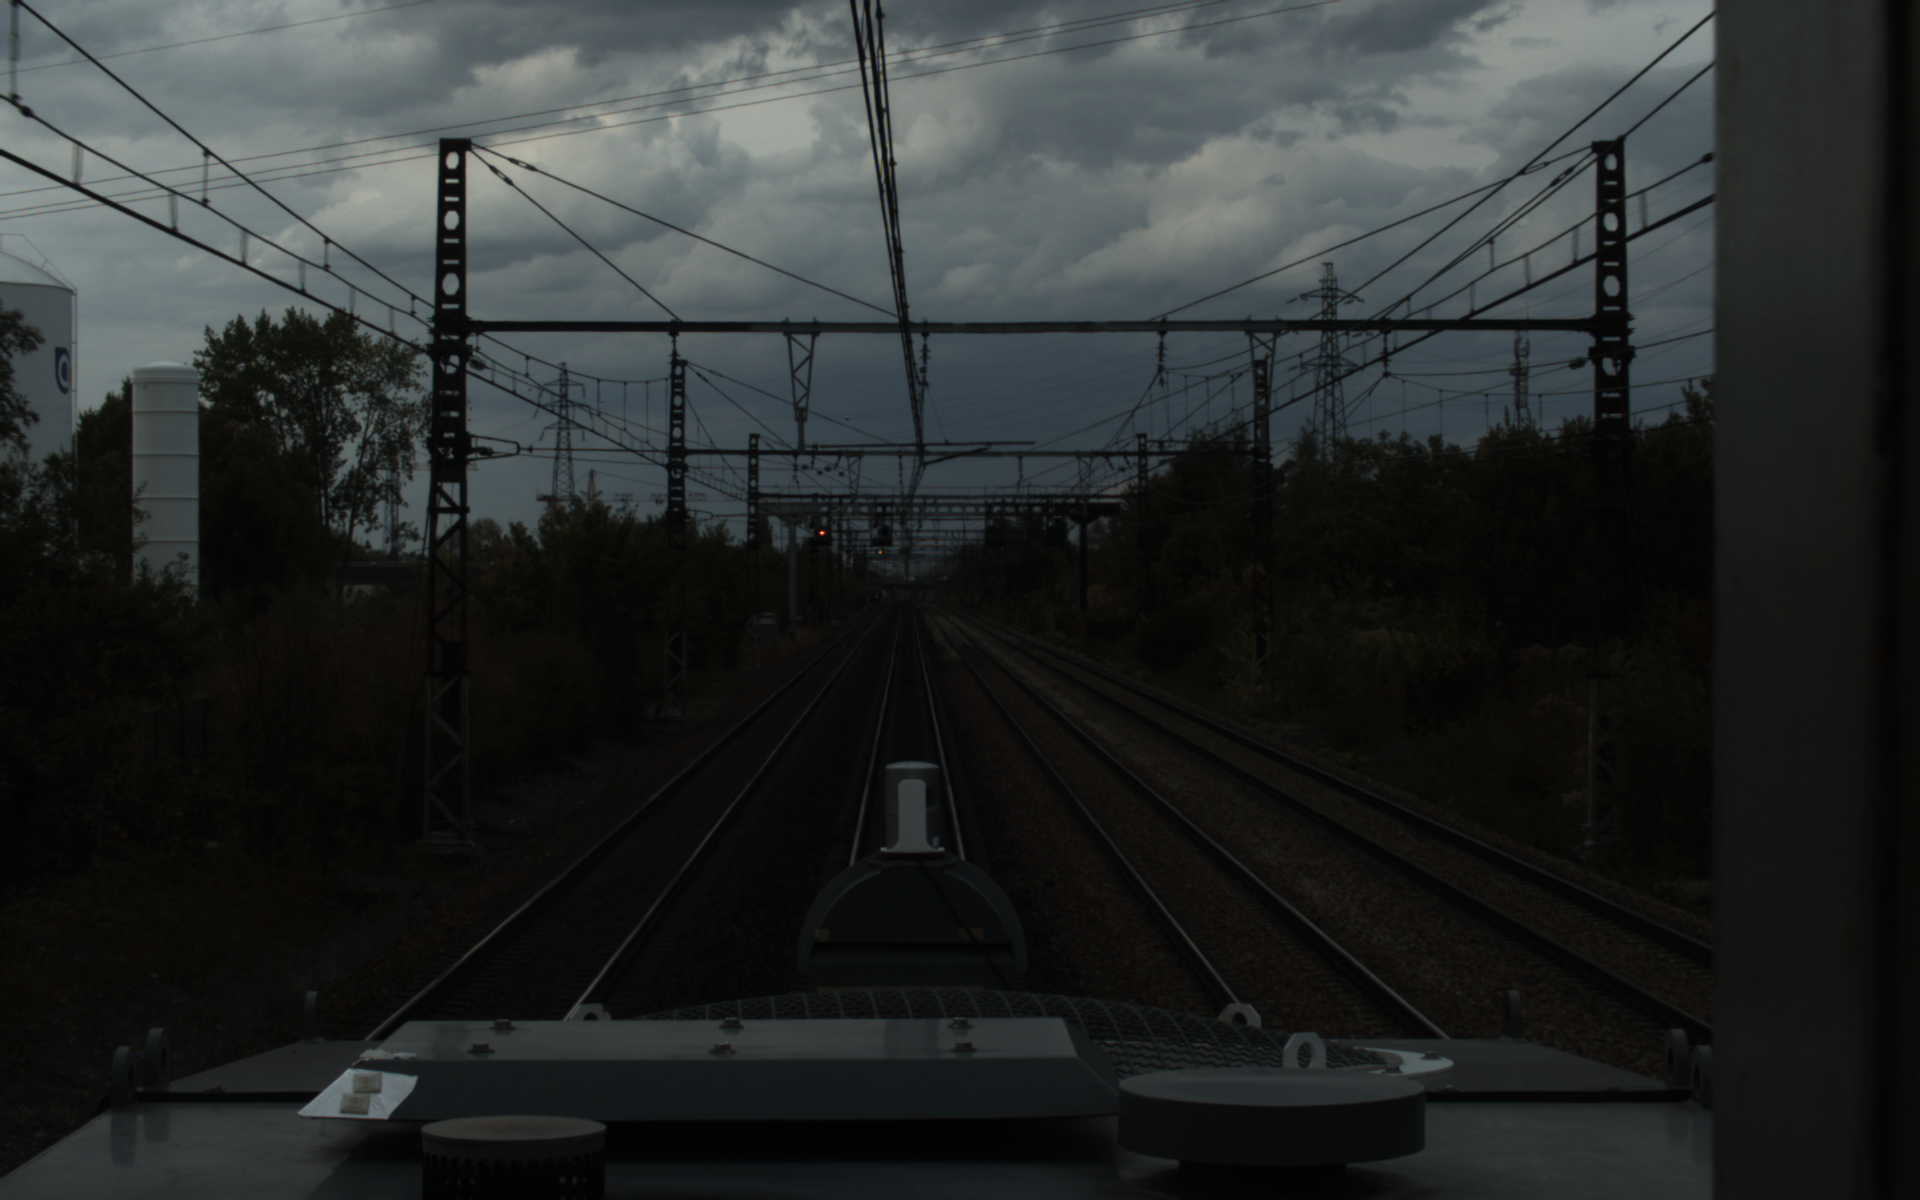Blinking: (878, 523, 892, 543)
Fixed: (814, 524, 829, 543)
